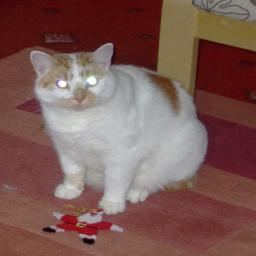catnose: (73, 96, 85, 106)
